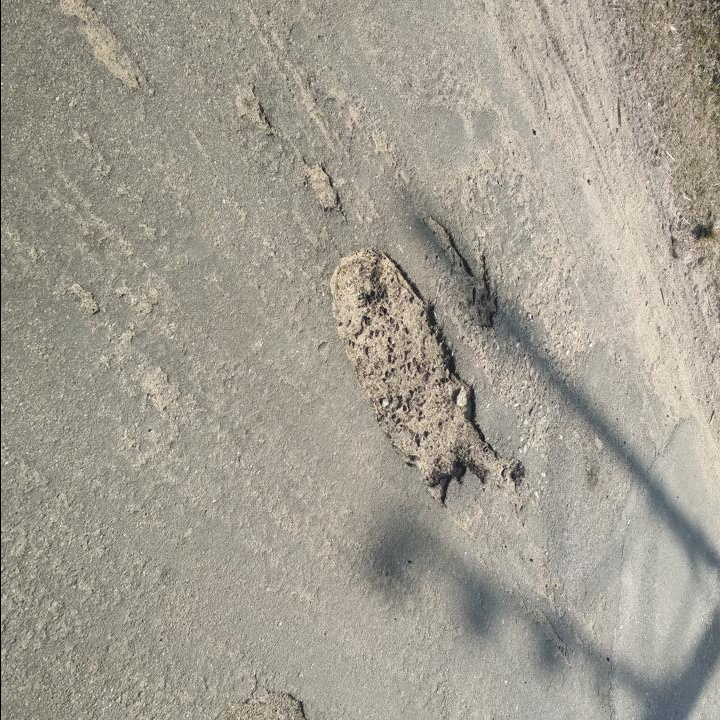pothole: (323, 249, 530, 508), (58, 0, 159, 102), (419, 211, 502, 332), (221, 686, 311, 719), (302, 155, 346, 221)
